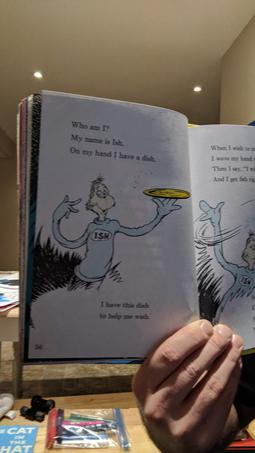text block: (63, 112, 162, 168), (205, 134, 255, 184), (87, 296, 160, 326)
